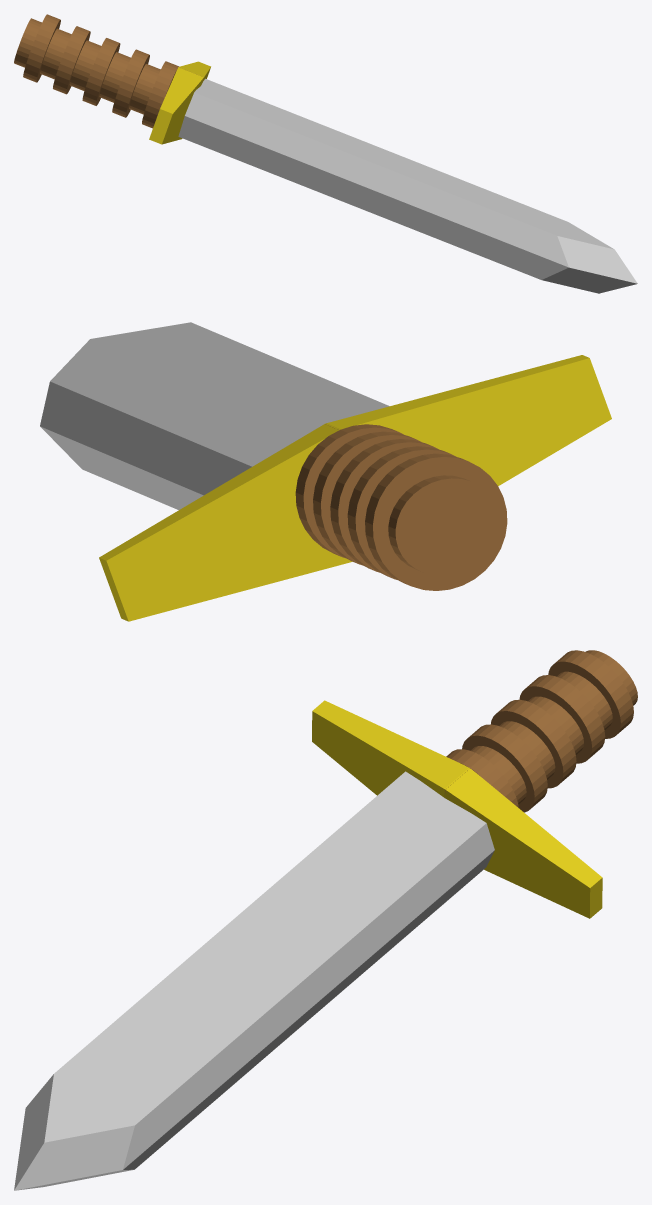
The model's file is sword.fbx.
The picture shows the model from 3 angles, top to bottom: view 1: azimuth 30°, elevation 25°; view 2: azimuth 150°, elevation 25°; view 3: azimuth 270°, elevation 25°; orthographic projection. The views are drawn at different scales.
Visible parts, largest first — view 1: Sword; view 2: Sword; view 3: Sword.
Boxes of the visible parts, left/top/right/bottom form: Sword: left=14, top=14, right=637, bottom=293; Sword: left=40, top=322, right=611, bottom=621; Sword: left=14, top=650, right=637, bottom=1190.
Bounding box in the file's own units: 816 × 428 × 854.
1 material, 1 textured.
